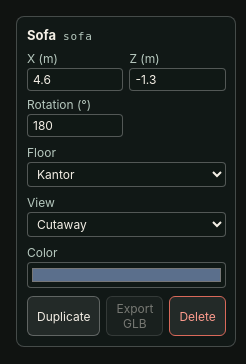
ObjectPanel duplicate and properties › has a Duplicate button that can be disabled with a reason
The width and height of the screenshot is (246, 364).
What coordinates should you click on to do the following:
click the button "Duplicate"
I would click on:
 (64, 316)
Its box is [27,296,100,336].
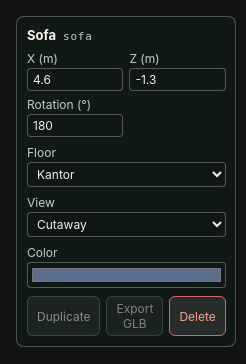
Check: the button "Duplicate" is disabled, box [27,296,100,336]
